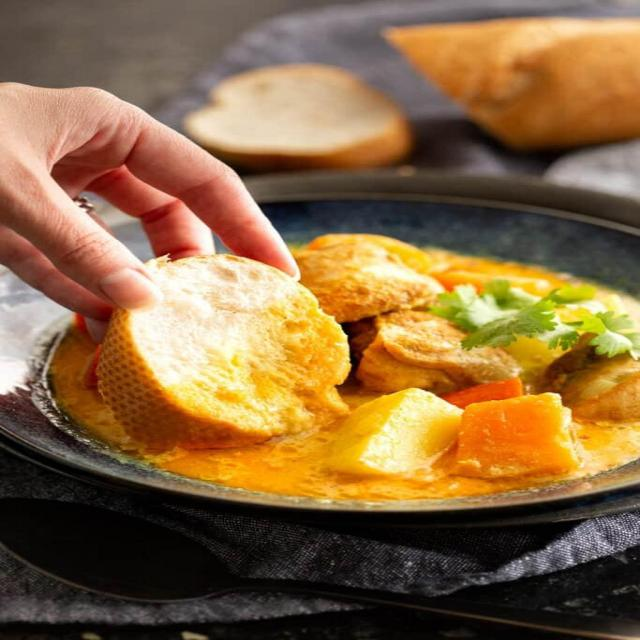chicken: (304, 246, 628, 492)
